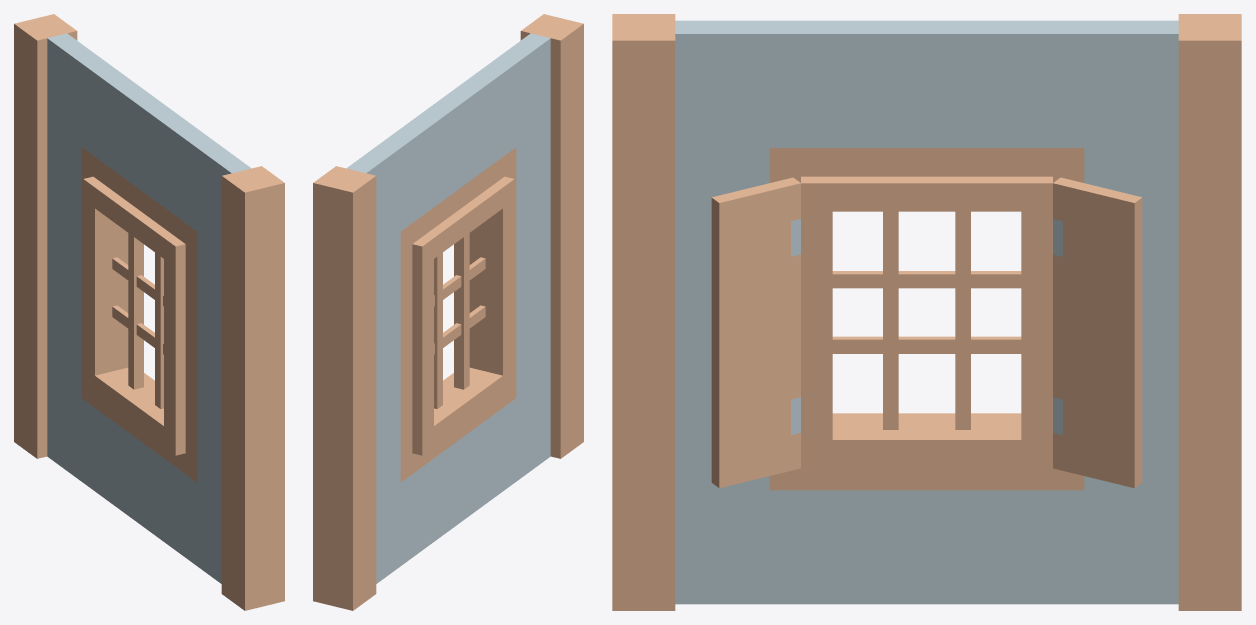
Rendered from wallWindowShutters.glb.
3 views of the same model, side by side, from view 1: azimuth 30°, elevation 25°; view 2: azimuth 150°, elevation 25°; view 3: azimuth 270°, elevation 25° (orthographic). The views are drawn at different scales.
Visible parts, largest first — view 1: wallWindowShutters, detail.001; view 2: wallWindowShutters, detail.001; view 3: wallWindowShutters, shutter, shutter.001, detail.001.
Part boxes in pixels (box(x1,y1,x2,y2)): wallWindowShutters: box(14, 14, 284, 610); detail.001: box(112, 233, 163, 408); wallWindowShutters: box(313, 14, 583, 610); detail.001: box(434, 233, 485, 408); wallWindowShutters: box(612, 14, 1241, 610); shutter: box(1053, 177, 1142, 488); shutter.001: box(711, 177, 800, 488); detail.001: box(832, 211, 1021, 429).
Bounding box in the file's own units: 0.175 × 1 × 1.
